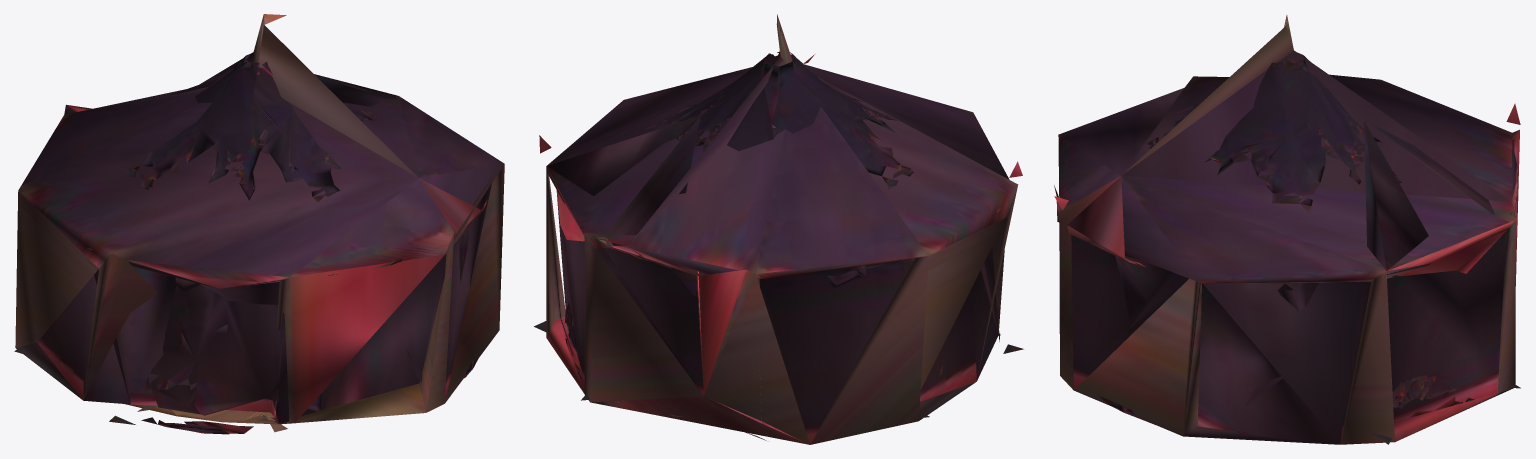
Rendered from lg-enemy-tent-large.glb.
3 views of the same model, side by side, from view 1: azimuth 30°, elevation 25°; view 2: azimuth 150°, elevation 25°; view 3: azimuth 270°, elevation 25° (orthographic). The views are drawn at different scales.
Parts seen in each view (by area): view 1: geometry_0; view 2: geometry_0; view 3: geometry_0.
Part boxes in pixels (x1,y1,x2,y2): geometry_0: (14, 14, 504, 434); geometry_0: (534, 14, 1023, 444); geometry_0: (1054, 15, 1520, 444).
Size of the model in its own units: 1 by 0.8029 by 0.9931.
1 material, 1 textured.
